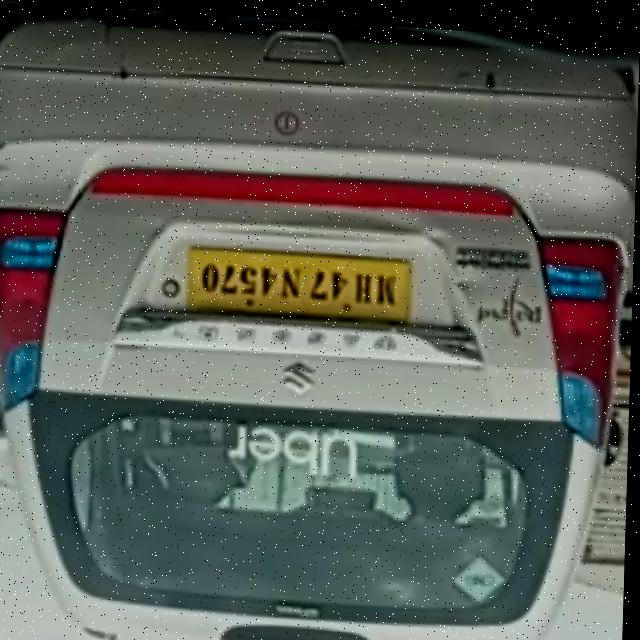plate: (180, 236, 422, 326)
